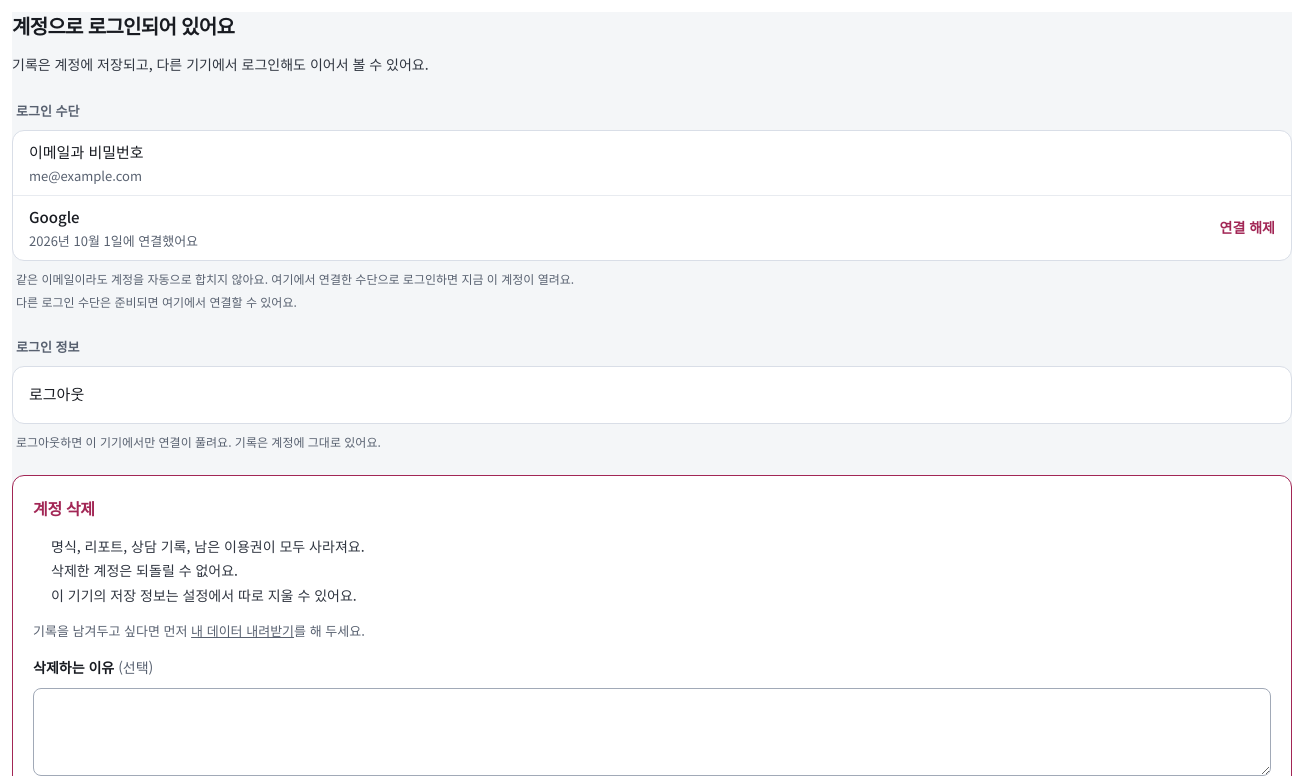
Test case: account login methods › shows the server's LAST_LOGIN_METHOD refusal and refreshes the list
The width and height of the screenshot is (1304, 776).
Step 1. Click the button with aria-label "Google 연결 해제" → (1247, 228), box [1220, 206, 1275, 250]
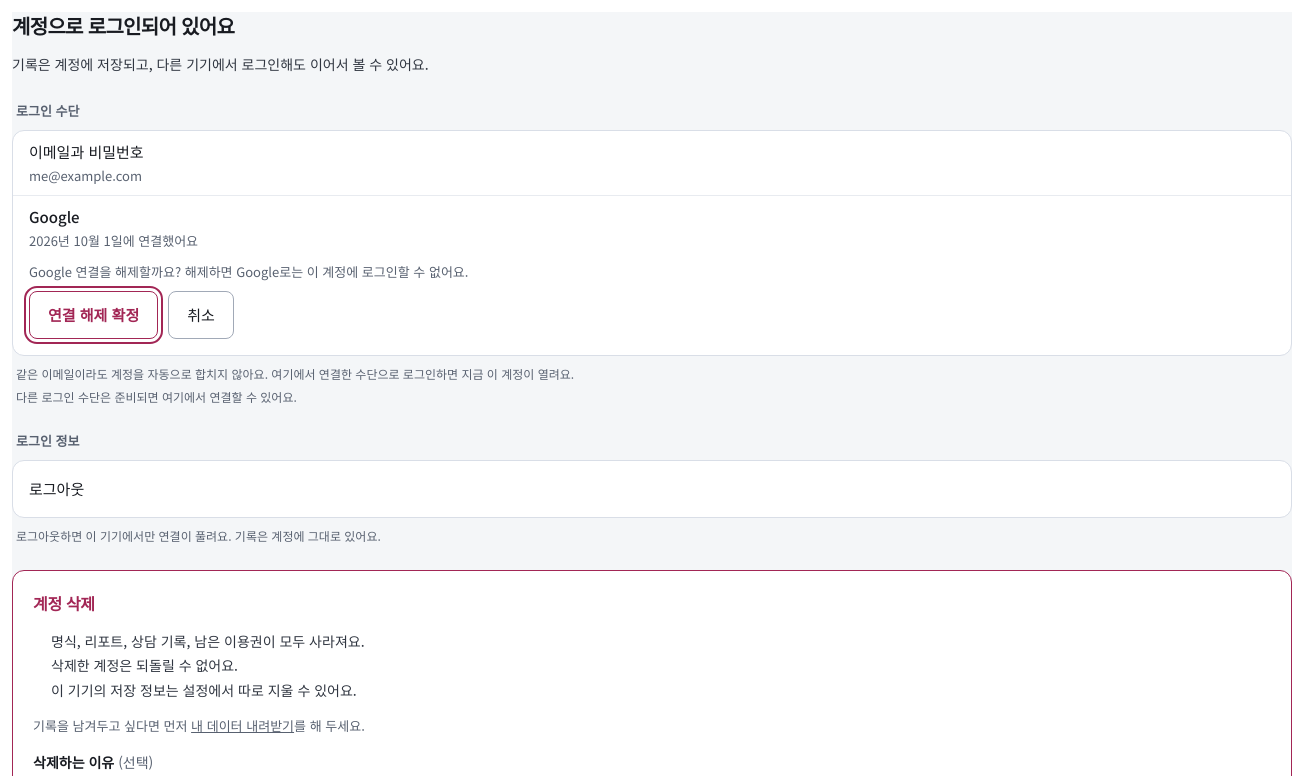
Step 2. Click the button "연결 해제 확정" → (94, 315), box [29, 291, 158, 339]
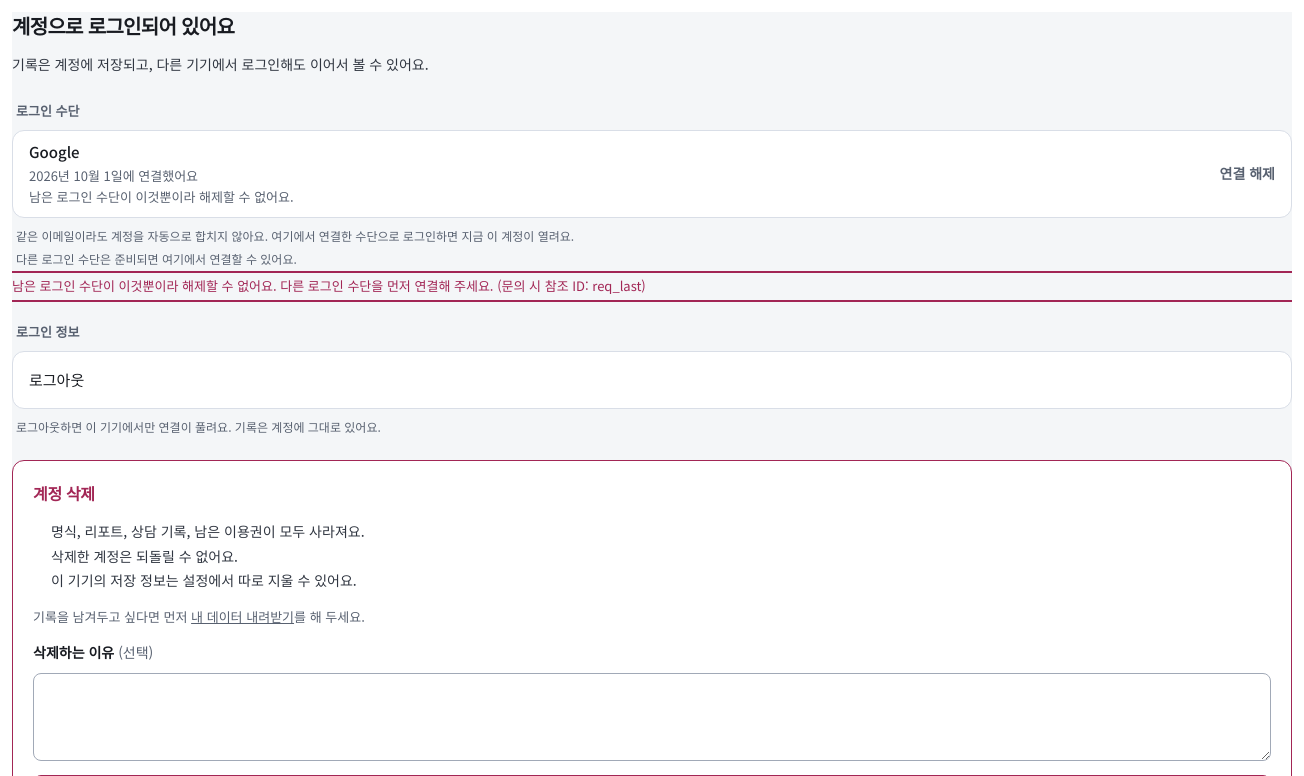
Now the button with aria-label "Google 연결 해제" is disabled, box [1220, 152, 1275, 196]
Now the message shows "남은 로그인 수단이 이것뿐이라 해제할 수 없어요. 다른 로그인 수단을 먼저 연결해 주세요.", box [12, 276, 646, 295]
Now the text "이메일과 비밀번호" is gone
